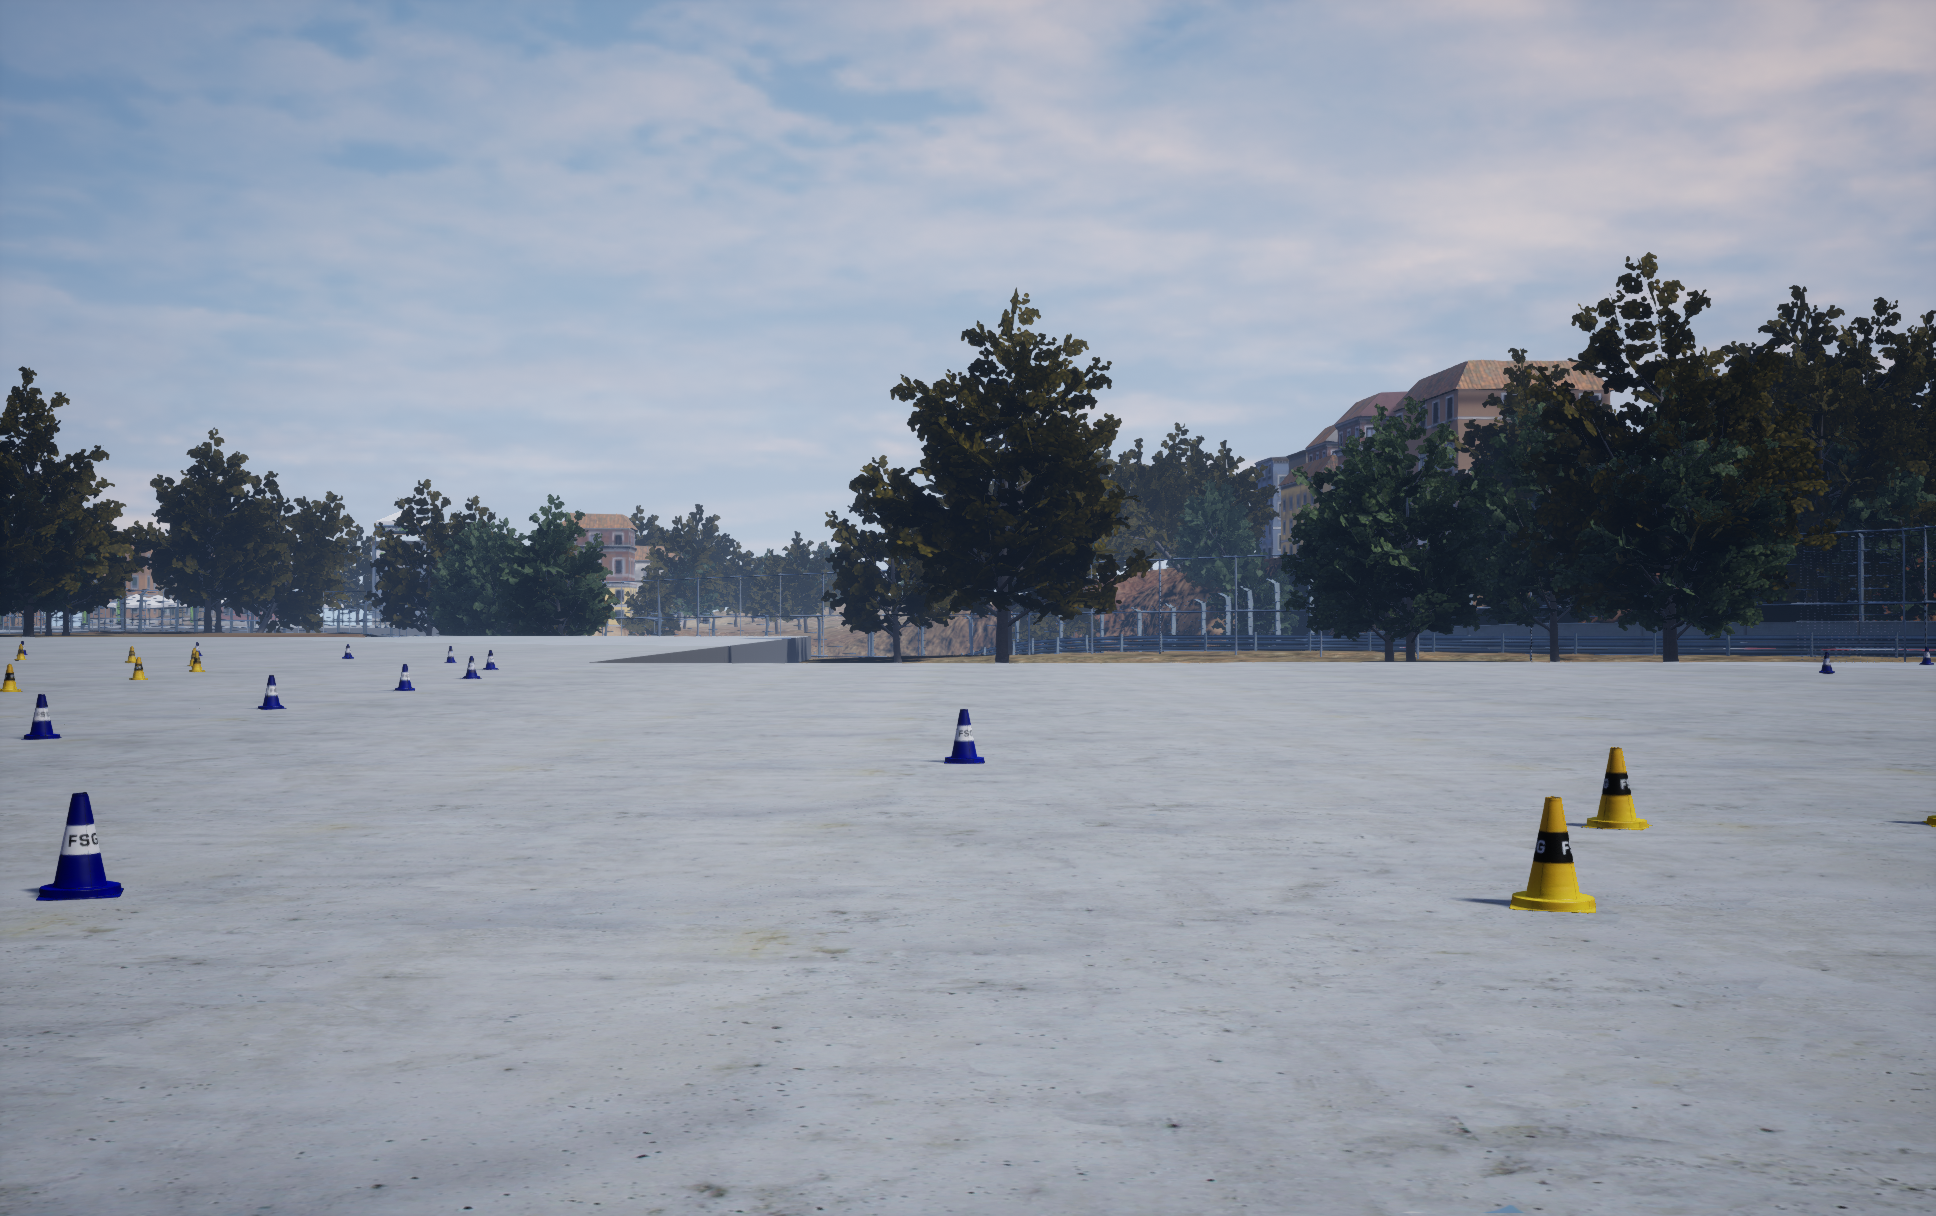blue: (1509, 796, 1596, 913), (1582, 747, 1652, 829), (0, 664, 22, 691), (129, 657, 147, 679), (189, 651, 205, 671), (1922, 815, 1935, 827)
yellow: (36, 792, 123, 899), (944, 709, 983, 764), (21, 693, 62, 740), (258, 675, 286, 709), (394, 664, 415, 691), (461, 656, 480, 678), (1818, 651, 1834, 672), (483, 650, 497, 670)
